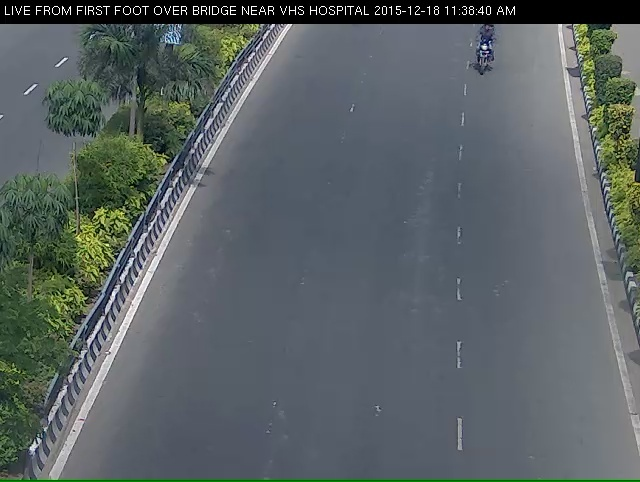Person: (467, 18, 510, 88)
